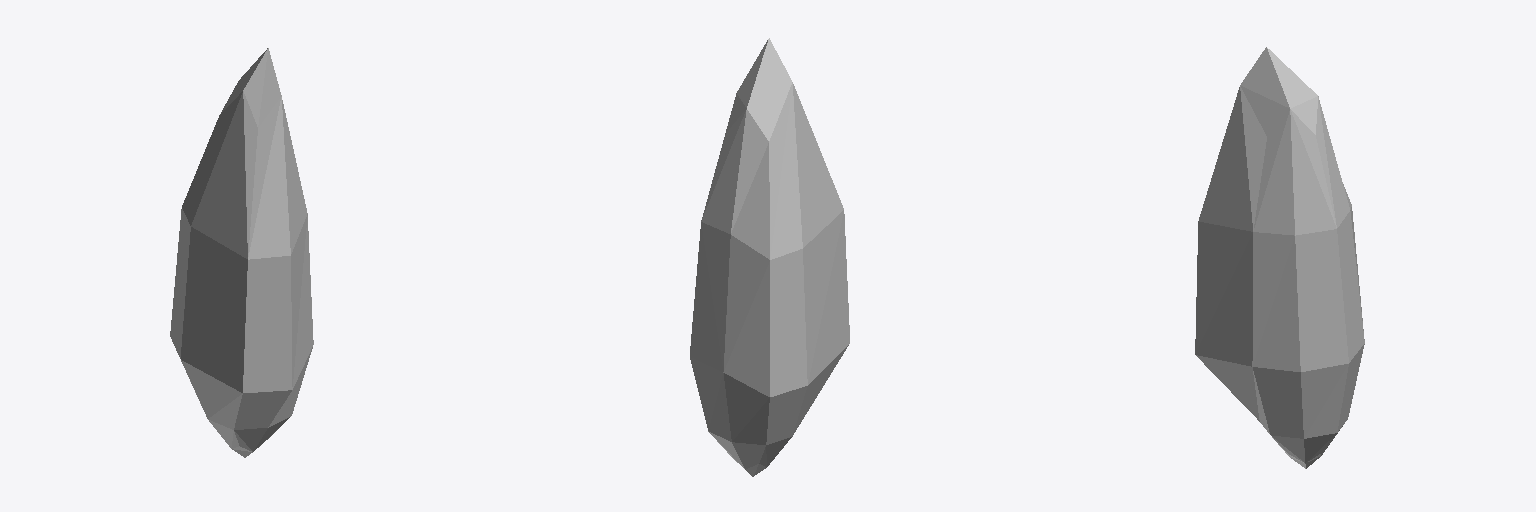
Rendered from crystal.obj.
3 views of the same model, side by side, from view 1: azimuth 30°, elevation 25°; view 2: azimuth 150°, elevation 25°; view 3: azimuth 270°, elevation 25° (orthographic).
Parts seen in each view (by area): view 1: pCube13; view 2: pCube13; view 3: pCube13.
Boxes of the visible parts, x1=… form: pCube13: x1=170, y1=48, x2=313, y2=457; pCube13: x1=690, y1=38, x2=849, y2=476; pCube13: x1=1195, y1=47, x2=1364, y2=468.
Bounding box in the file's own units: 0.9757 × 3.43 × 1.24.